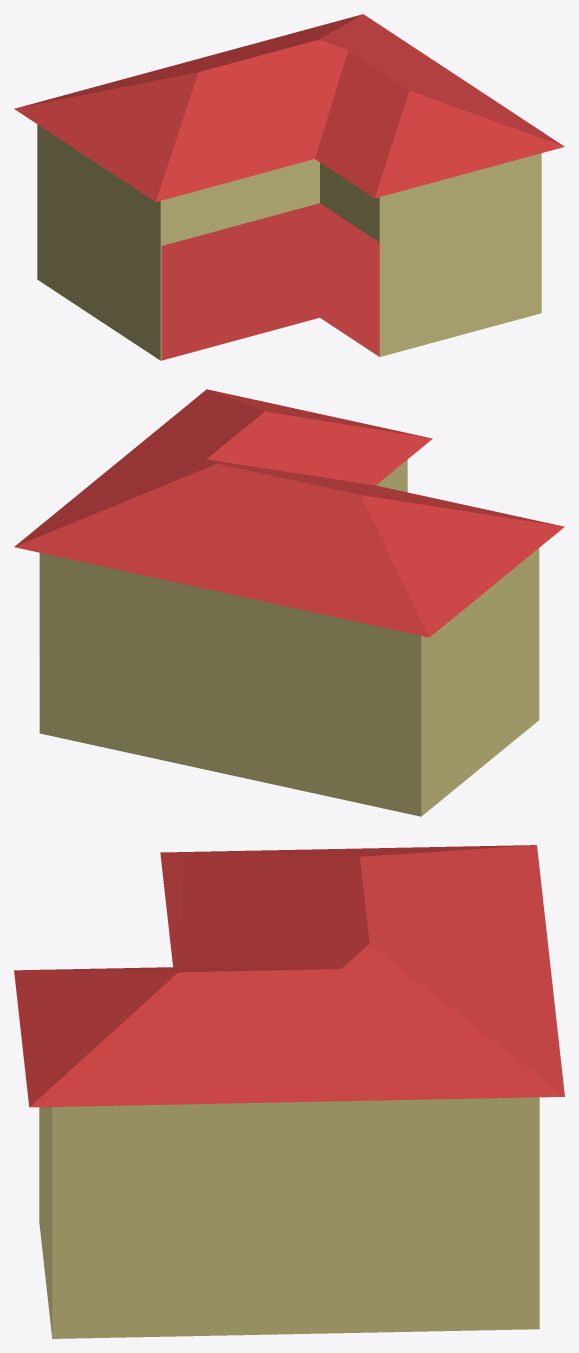
The picture shows the model from 3 angles, top to bottom: view 1: azimuth 30°, elevation 25°; view 2: azimuth 150°, elevation 25°; view 3: azimuth 270°, elevation 25°; orthographic projection. The views are drawn at different scales.
Bounding box in the file's own units: 19.28 × 17.11 × 10.84.
